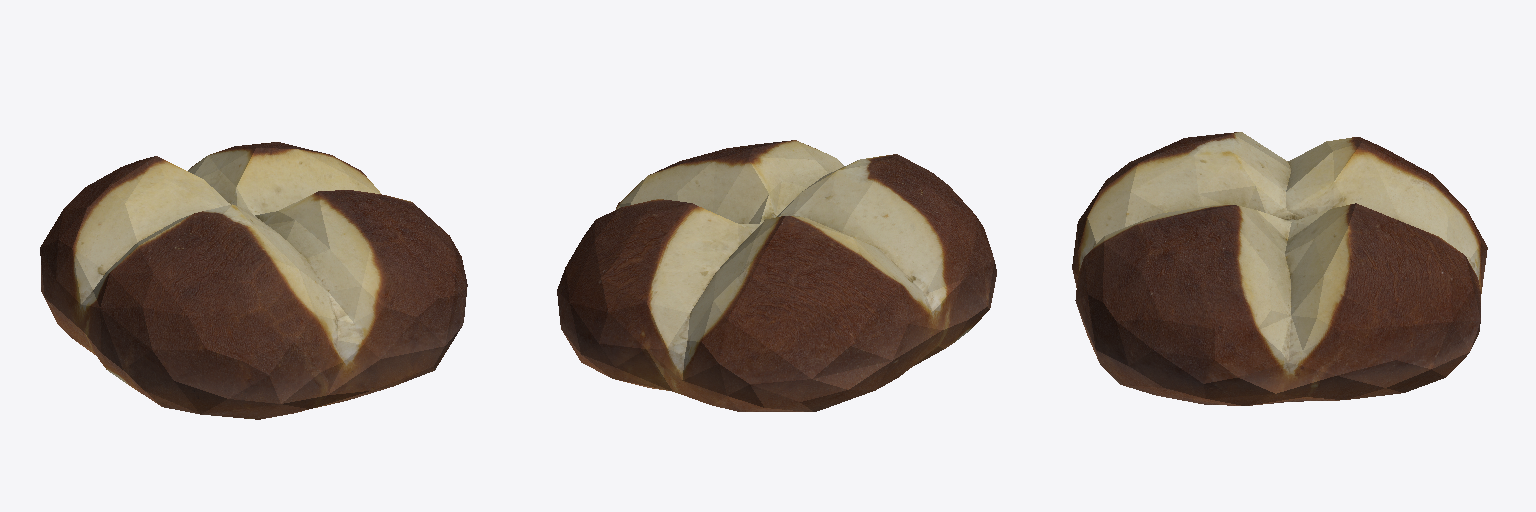
The picture shows the model from 3 angles: view 1: azimuth 30°, elevation 25°; view 2: azimuth 150°, elevation 25°; view 3: azimuth 270°, elevation 25°; orthographic projection.
Parts seen in each view (by area): view 1: 3DBread002_LQ-1K-JPG; view 2: 3DBread002_LQ-1K-JPG; view 3: 3DBread002_LQ-1K-JPG.
Part boxes in pixels (bbox=[...]): 3DBread002_LQ-1K-JPG: bbox=[40, 142, 467, 419]; 3DBread002_LQ-1K-JPG: bbox=[557, 140, 996, 411]; 3DBread002_LQ-1K-JPG: bbox=[1072, 132, 1487, 405].
Bounding box in the file's own units: 0.1175 × 0.0536 × 0.1193.
Materials: 1 (1 with a texture image).